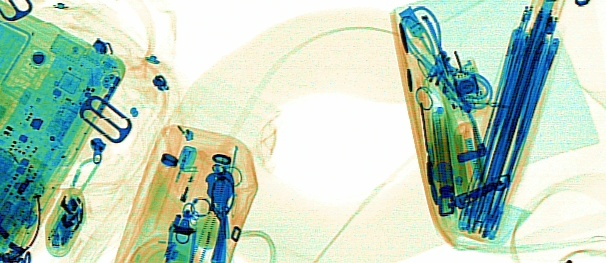lighter: (151, 143, 203, 235)
